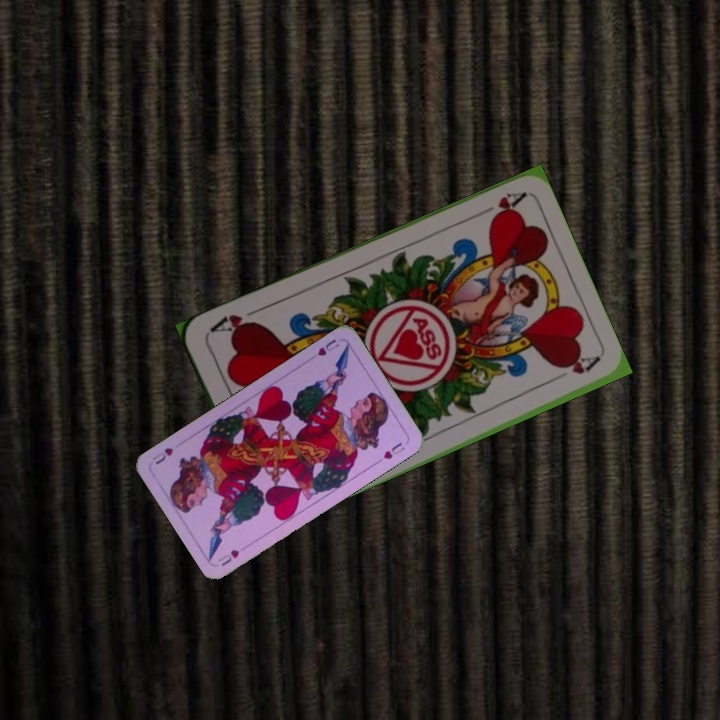HA: (470, 188, 527, 223)
HU: (214, 541, 251, 569), (313, 335, 342, 359)
